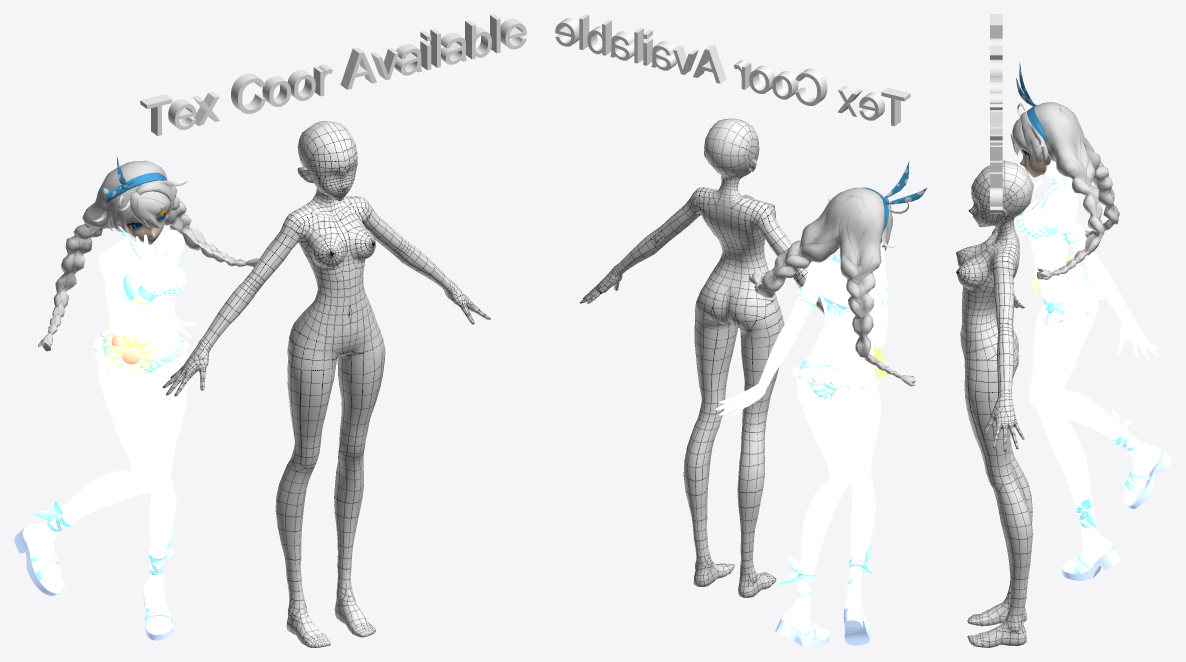
Rendered from kiana.glb.
The picture shows the model from 3 angles, left to right: view 1: azimuth 30°, elevation 25°; view 2: azimuth 150°, elevation 25°; view 3: azimuth 270°, elevation 25°; orthographic projection. The views are drawn at different scales.
Visible parts, largest first — view 1: Object001__kianadefault_0, Model001_7_body_0_1_0_0, Text001, Model001_7_hair_0_1_0_0; view 2: Object001__kianadefault_0, Model001_7_body_0_1_0_0, Model001_7_hair_0_1_0_0, Text001; view 3: Model001_7_body_0_1_0_0, Object001__kianadefault_0, Model001_7_hair_0_1_0_0, Text001, Model001_7_face_0_1_0_0.
Boxes of the visible parts, bbox=[...] form: Object001__kianadefault_0: bbox=[162, 120, 490, 647]; Model001_7_body_0_1_0_0: bbox=[14, 229, 195, 640]; Text001: bbox=[140, 14, 526, 135]; Model001_7_hair_0_1_0_0: bbox=[38, 155, 259, 351]; Object001__kianadefault_0: bbox=[580, 118, 875, 597]; Model001_7_body_0_1_0_0: bbox=[715, 241, 888, 647]; Model001_7_hair_0_1_0_0: bbox=[749, 161, 926, 386]; Text001: bbox=[555, 14, 910, 126]; Model001_7_body_0_1_0_0: bbox=[1017, 155, 1171, 580]; Object001__kianadefault_0: bbox=[956, 160, 1033, 647]; Model001_7_hair_0_1_0_0: bbox=[1010, 62, 1119, 279]; Text001: bbox=[990, 14, 1002, 213]; Model001_7_face_0_1_0_0: bbox=[1019, 148, 1050, 177].
Size of the model in its own units: 4.27 by 5.39 by 1.97.
Materials: 7 (5 with a texture image).
